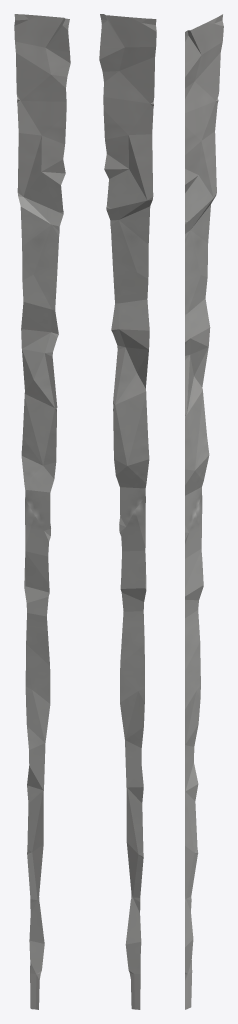
3 views of the same model, side by side, from view 1: azimuth 30°, elevation 25°; view 2: azimuth 210°, elevation 25°; view 3: azimuth 270°, elevation 25° (orthographic).
Bounding box in the file's own units: 0.0331 × 0.8373 × 0.0297.
1 material, 1 textured.
